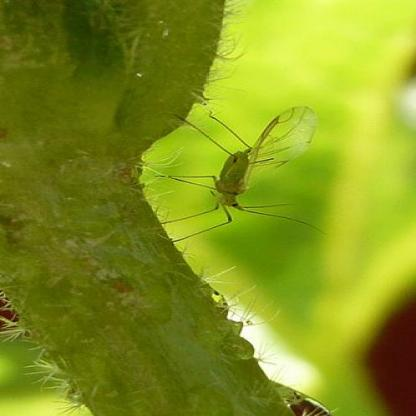aphid: (142, 93, 317, 258)
